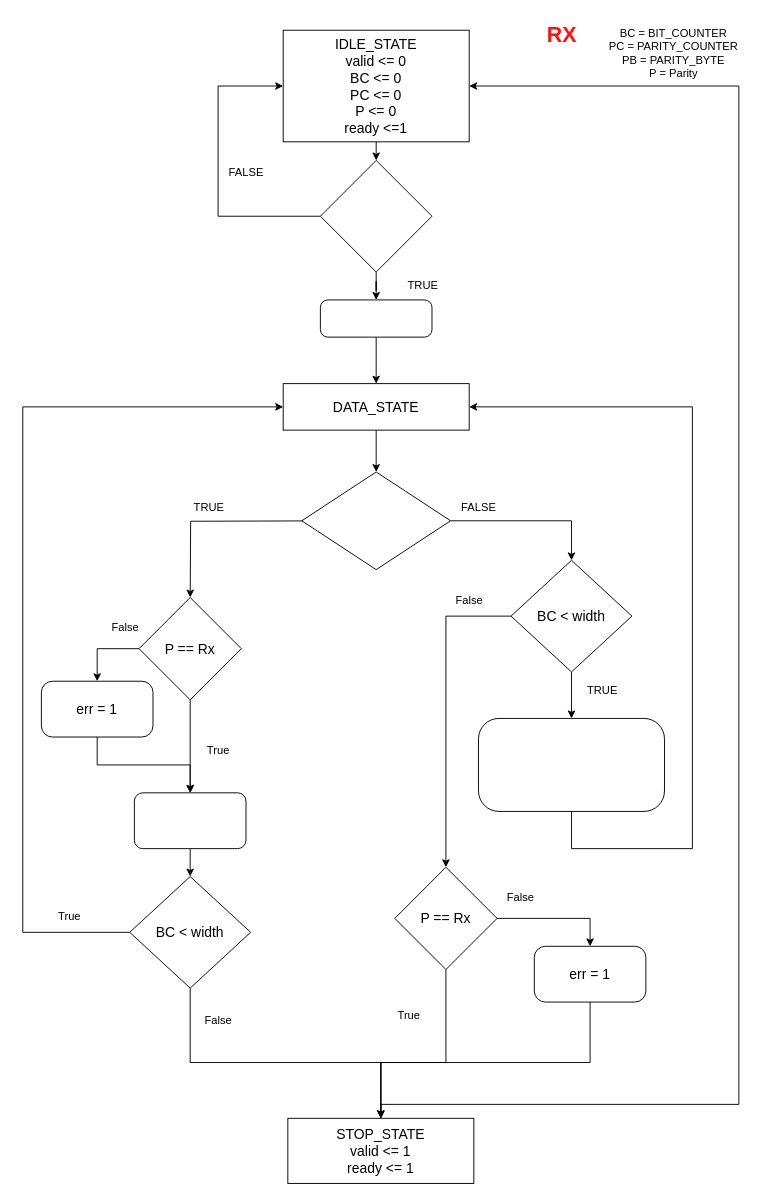
Image size: 774x1200. Some labels were removed from this diagram. Each missing label, with the centre of its shape:
out = { Rx , out [width -1:1] P = P ^ rx BC++ PC++: point 571,764
PC = 0 P = 0: point 189,820
PC == 8 && PF: point 376,520
ready = 0: point 375,318
RX == 0: point 375,215
